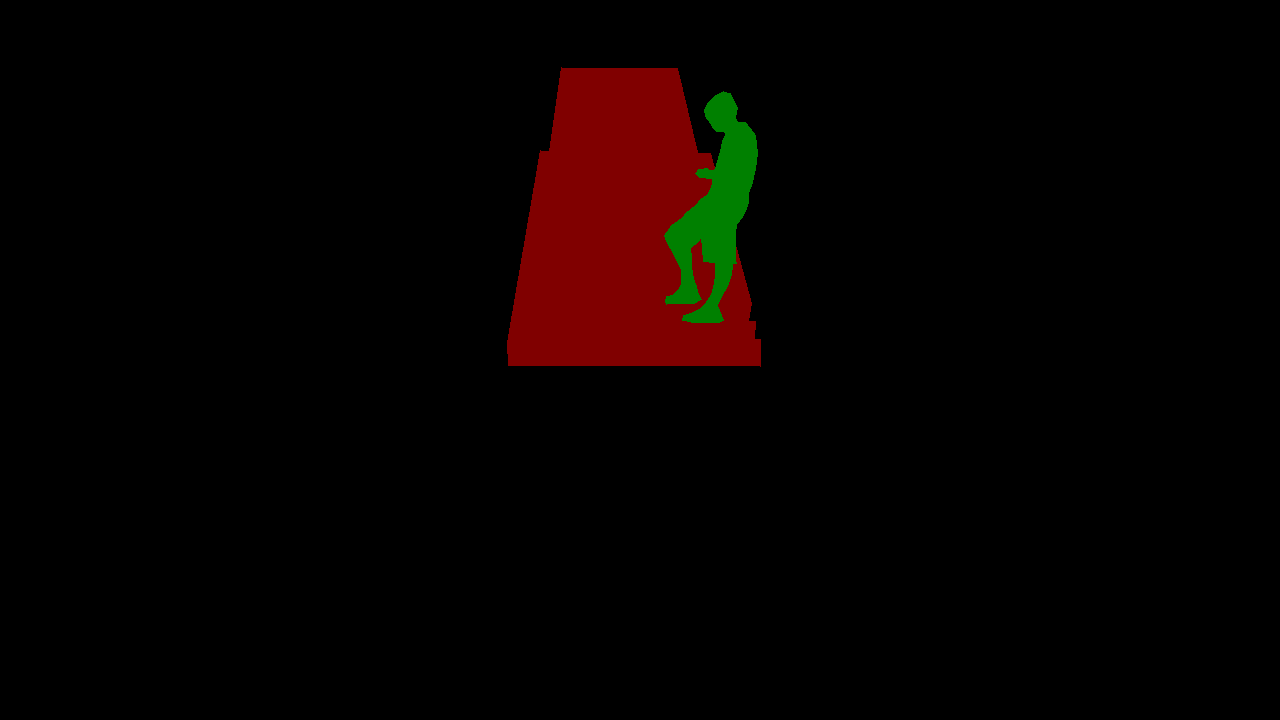person: (664, 91, 757, 322)
stair: (507, 67, 760, 366)
